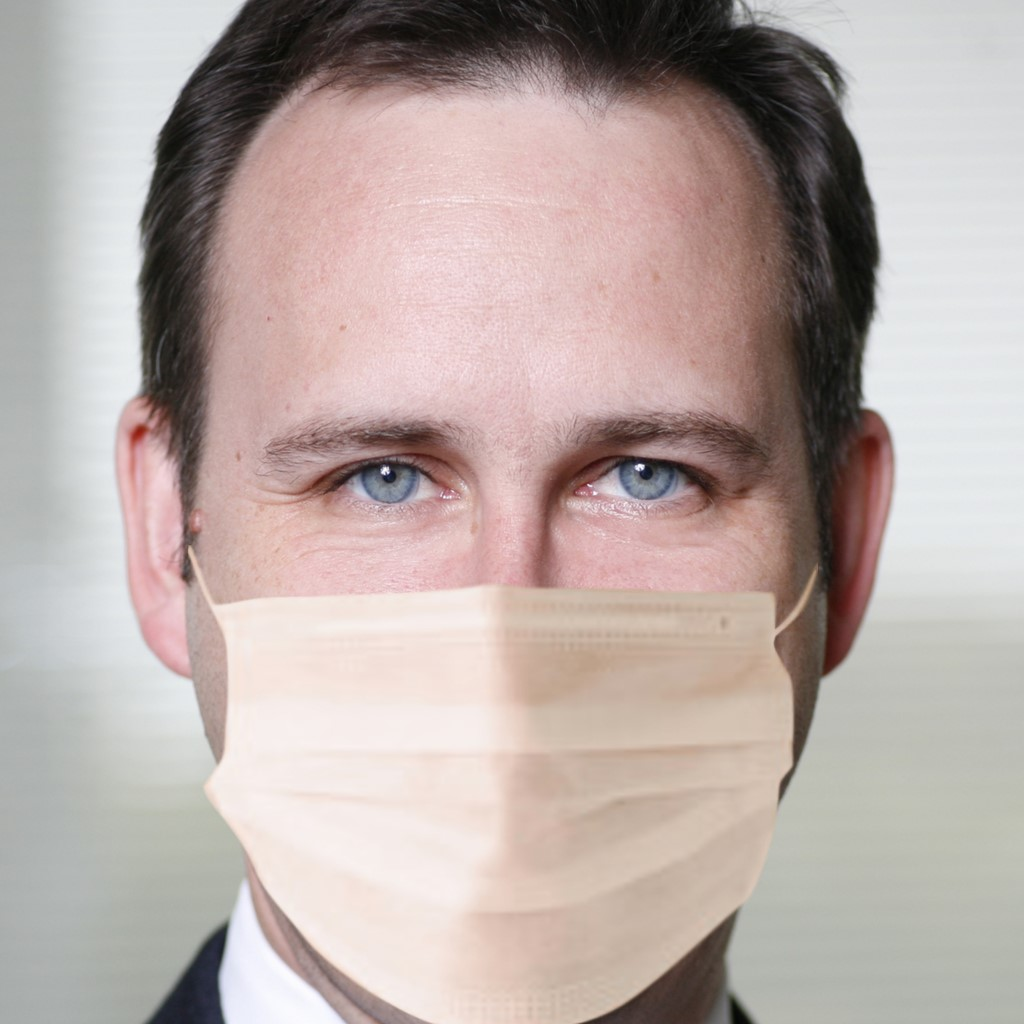con_mascara: (129, 41, 862, 1005)
